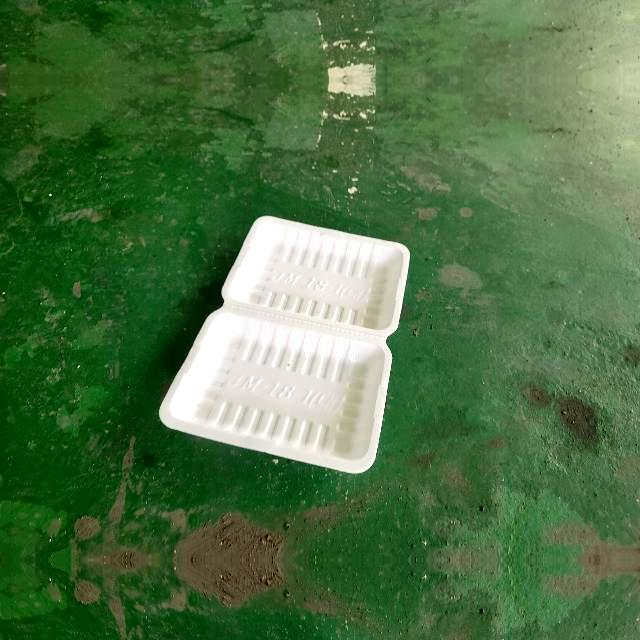Styrofoam: (159, 216, 410, 474), (160, 216, 410, 474)
